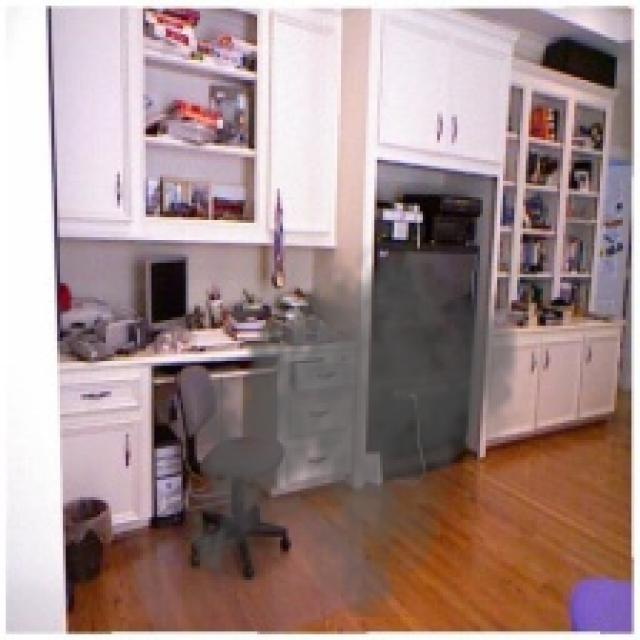smoke: (177, 232, 526, 617)
